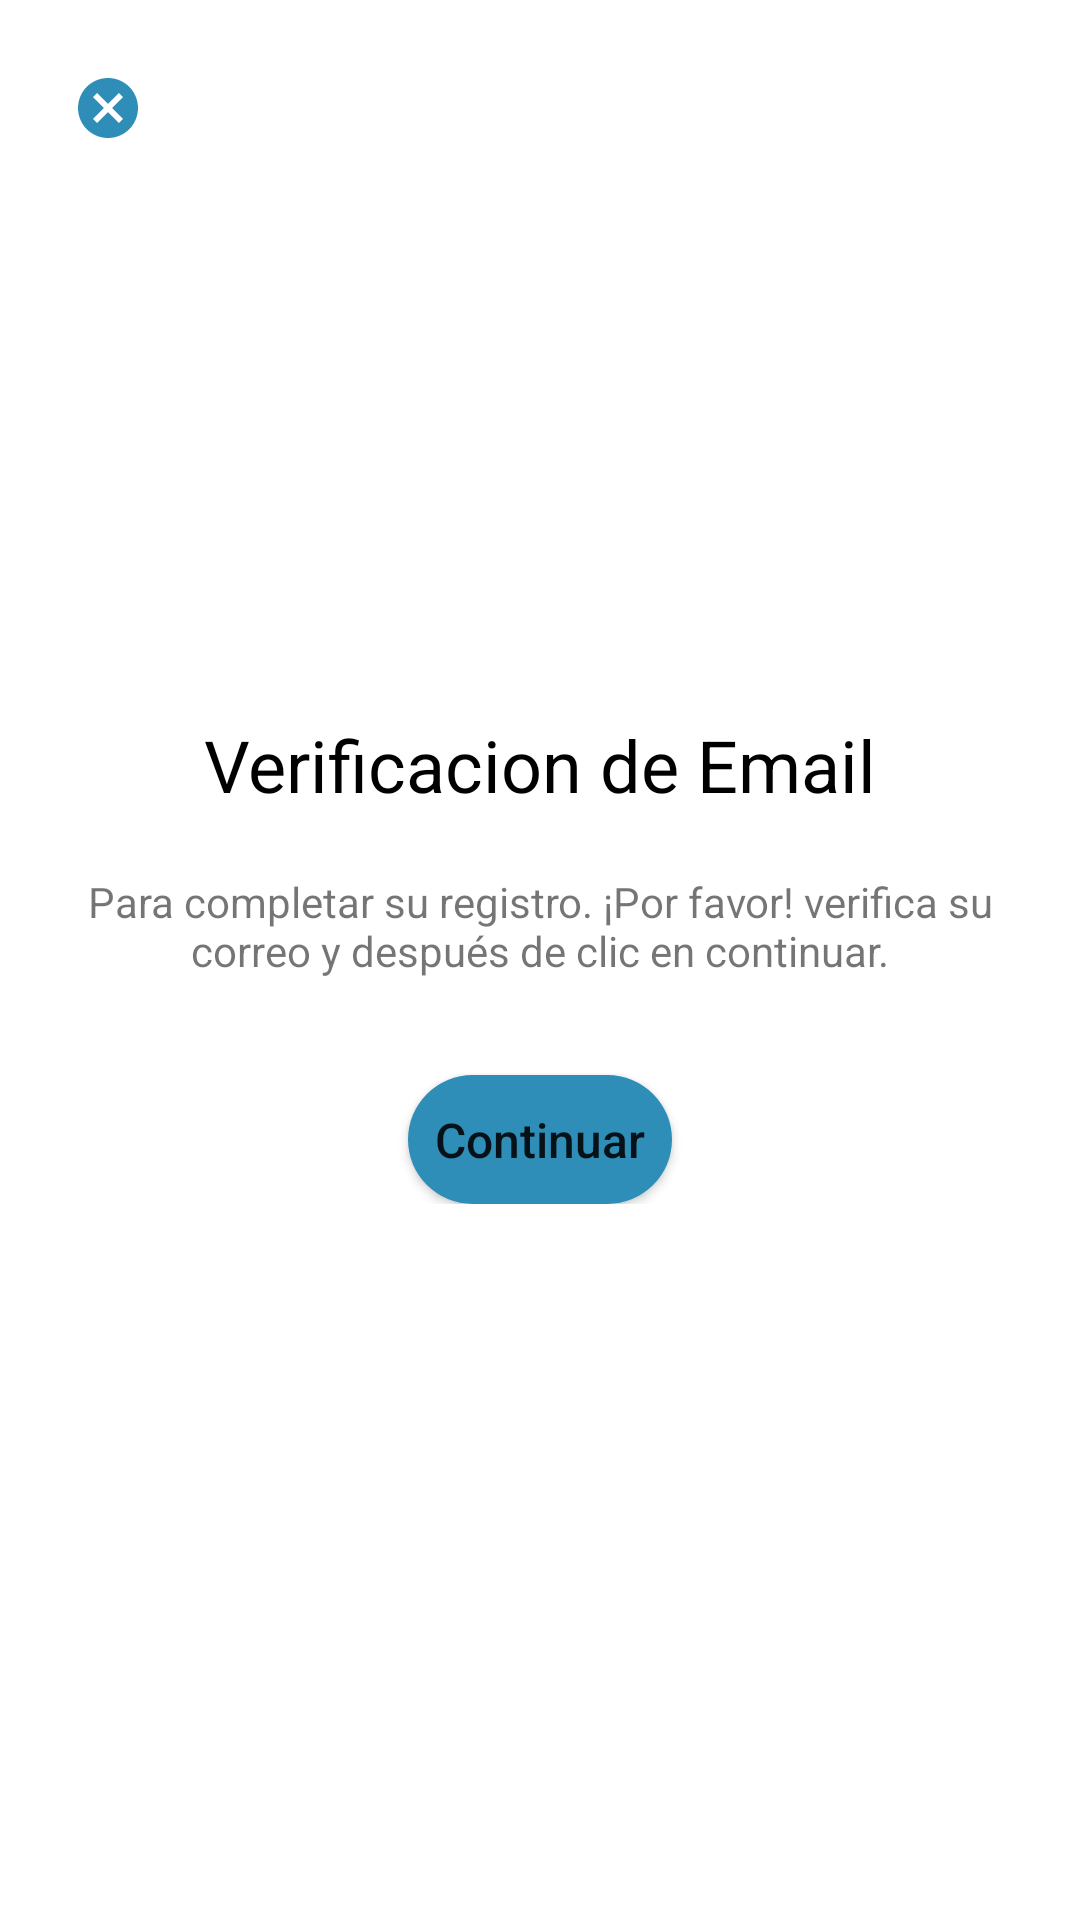

Screen size 1080w x 1920h. Icon name, then its center in pixels as [x,y]:
cancel: [108,108]
